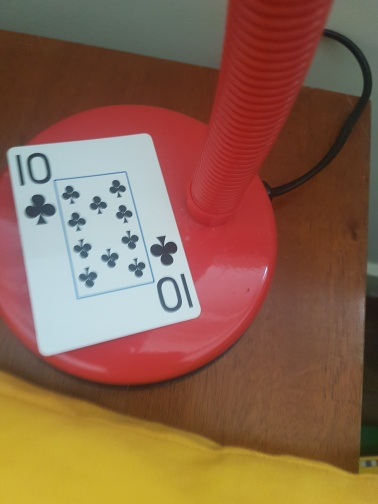ten: (7, 132, 201, 358)
